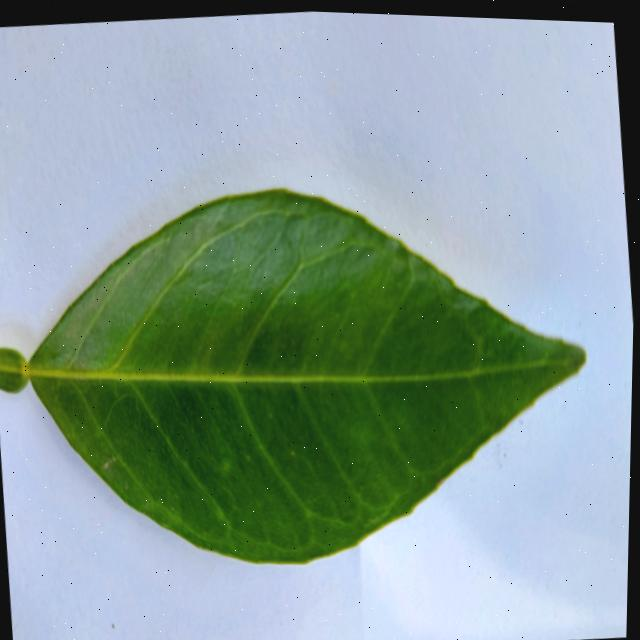greening: (26, 190, 584, 562)
